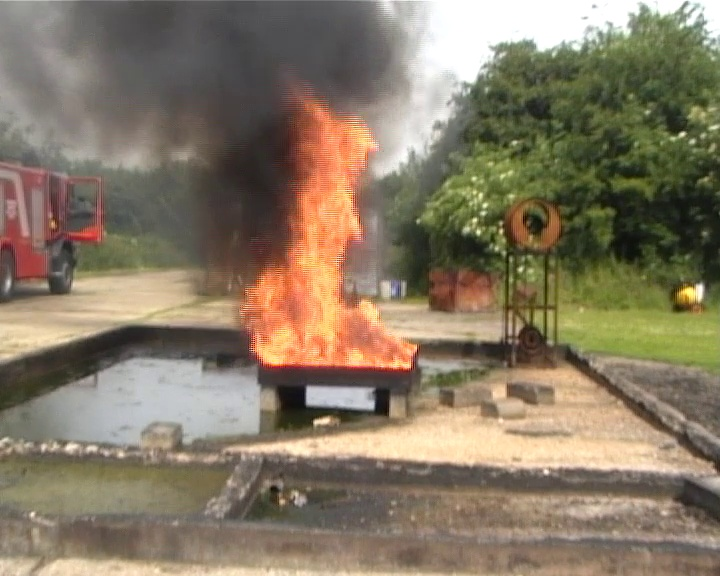fire: (240, 107, 419, 368)
